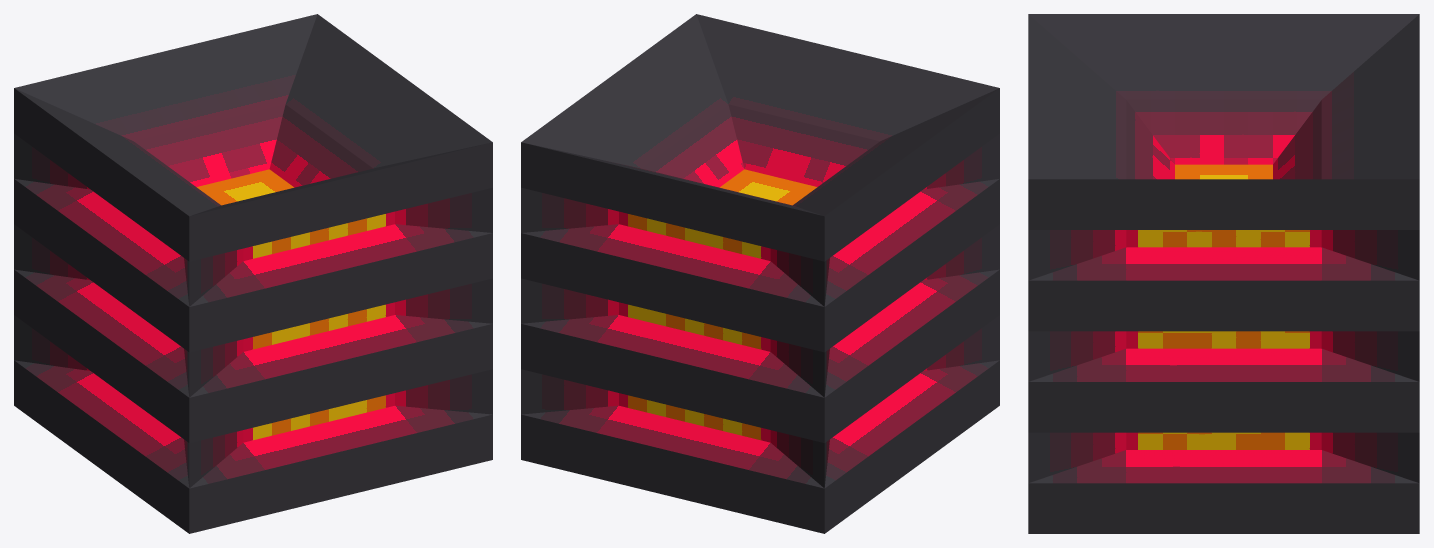
File: volcano-wall.gltf
3 renders of one model, left to right at view 1: azimuth 30°, elevation 25°; view 2: azimuth 150°, elevation 25°; view 3: azimuth 270°, elevation 25°, orthographic. The views are drawn at different scales.
Parts seen in each view (by area): view 1: lava; view 2: lava; view 3: lava.
Boxes of the visible parts, x1,y1,x2,y2 form: lava: (14,14,492,533); lava: (521,14,999,533); lava: (1028,14,1419,533).
Size of the model in its own units: 1 by 1 by 1.
1 material, 1 textured.
